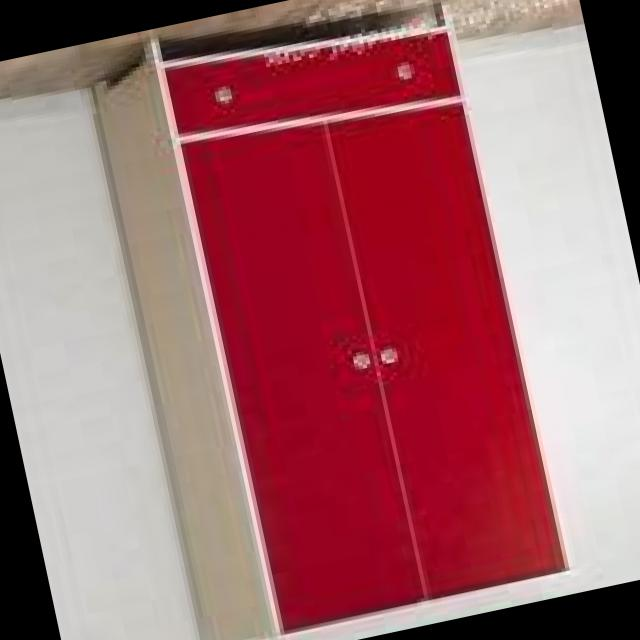Closet: (68, 0, 584, 640)
